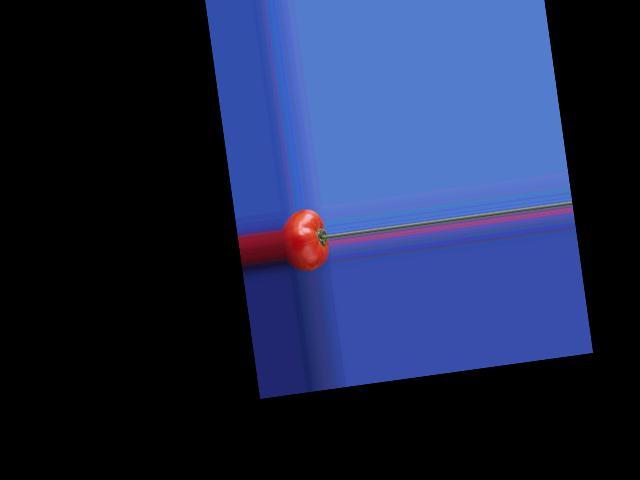tomato: (279, 207, 332, 274)
